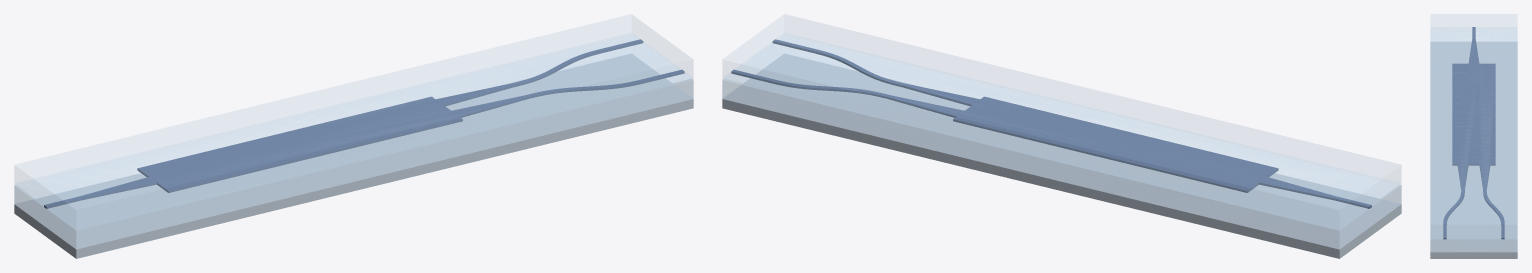
Rendered from stack-mmi.glb.
The picture shows the model from 3 angles, left to right: view 1: azimuth 30°, elevation 25°; view 2: azimuth 150°, elevation 25°; view 3: azimuth 270°, elevation 25°; orthographic projection. The views are drawn at different scales.
Parts seen in each view (by area): view 1: cladd, sisub, box, siwg; view 2: cladd, sisub, box, siwg; view 3: cladd, sisub, box, siwg.
Part boxes in pixels (x1=…): cladd: x1=14, y1=14, x2=693, y2=229; sisub: x1=14, y1=53, x2=693, y2=258; box: x1=14, y1=35, x2=693, y2=249; siwg: x1=44, y1=39, x2=684, y2=208; cladd: x1=722, y1=14, x2=1401, y2=229; sisub: x1=722, y1=53, x2=1401, y2=258; box: x1=722, y1=35, x2=1401, y2=248; siwg: x1=731, y1=39, x2=1371, y2=208; cladd: x1=1430, y1=14, x2=1517, y2=238; sisub: x1=1430, y1=41, x2=1517, y2=258; box: x1=1430, y1=29, x2=1517, y2=251; siwg: x1=1443, y1=27, x2=1504, y2=239.
Bounding box in the file's own units: 68.8 × 5.2 × 12.
